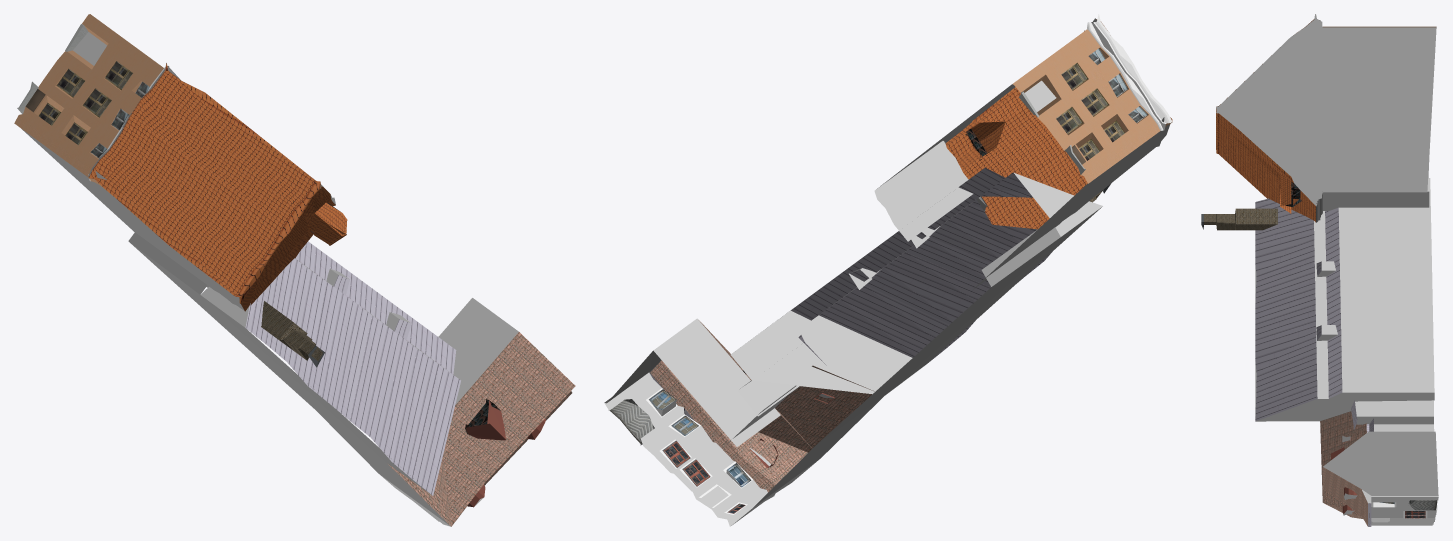
The model's file is Myyrivahe_19-origo.obj.
3 views of the same model, side by side, from view 1: azimuth 30°, elevation 25°; view 2: azimuth 150°, elevation 25°; view 3: azimuth 270°, elevation 25° (orthographic). The views are drawn at different scales.
Parts seen in each view (by area): view 1: Myyrivahe_19, xxx; view 2: Myyrivahe_19, xxx; view 3: Myyrivahe_19, xxx.
Boxes of the visible parts, x1=… form: Myyrivahe_19: x1=14, y1=14, x2=575, y2=526; xxx: x1=21, y1=66, x2=450, y2=526; Myyrivahe_19: x1=604, y1=14, x2=1172, y2=526; xxx: x1=607, y1=18, x2=1169, y2=507; Myyrivahe_19: x1=1201, y1=19, x2=1438, y2=526; xxx: x1=1216, y1=14, x2=1438, y2=495.
Size of the model in its own units: 36.94 by 38 by 20.27.
